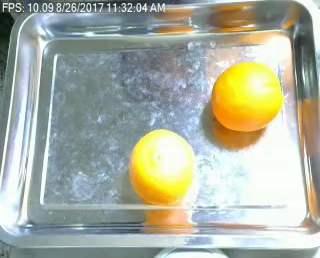Orange: (131, 126, 196, 204), (212, 62, 284, 132)
